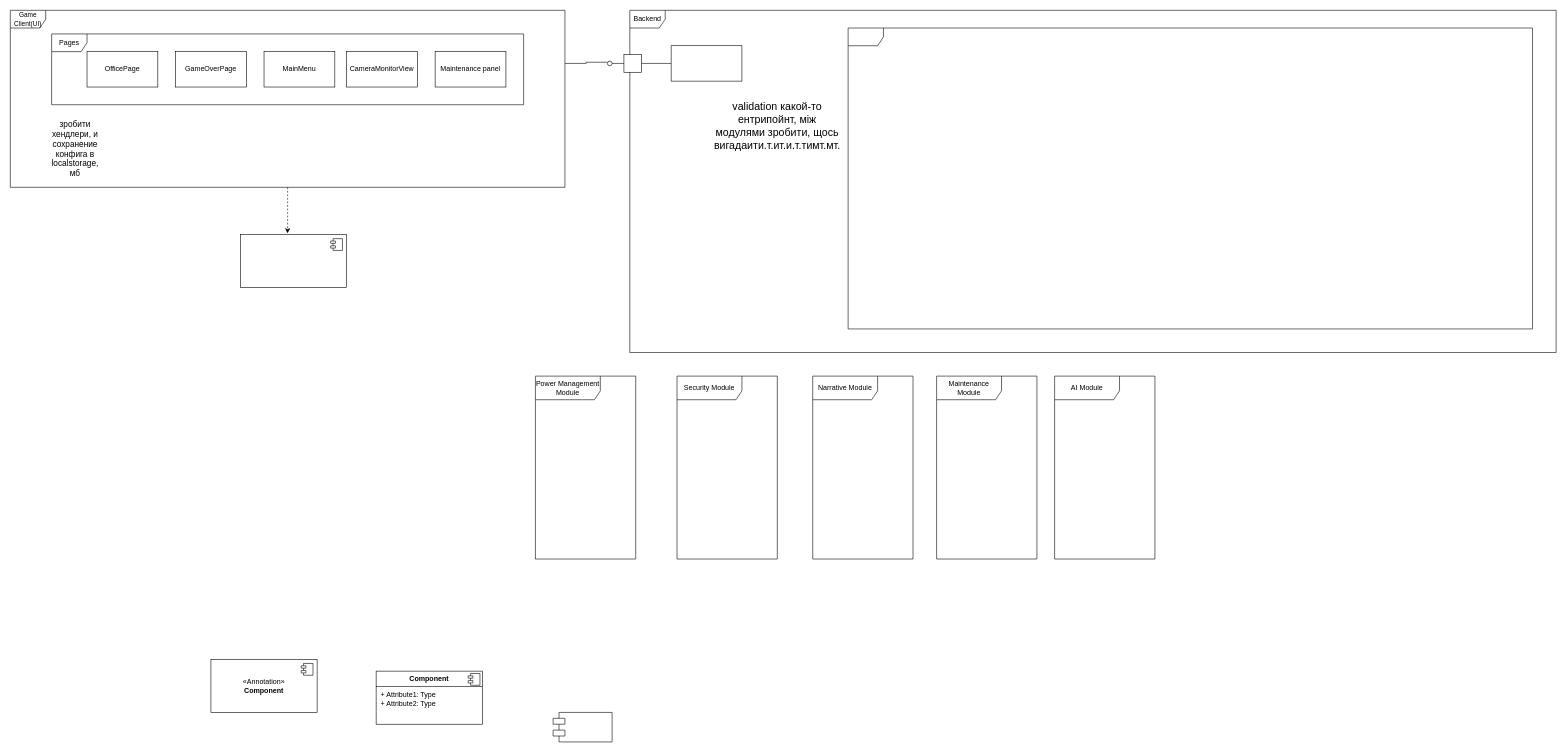
Some shapes in this 1566 by 752 pixel diagram are drawn without their labels. The shapes that lost their labels are listed below. From the top down, each one's centre as x and y in pixels, then its label:
At (706,63): "Router".
At (1190,178): "Modules".
At (293,261): "ClickTeam Fusion 2.5".
At (582,727): "Module".
